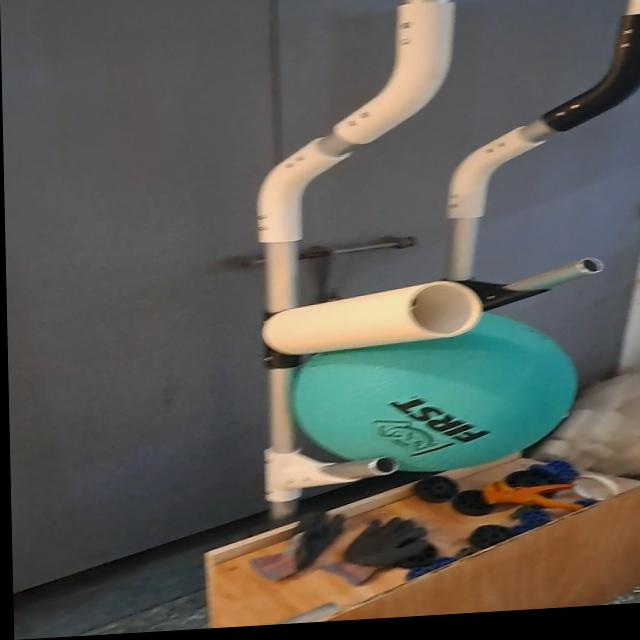ALGAE: (286, 303, 584, 483)
CORAL: (262, 278, 487, 357)
